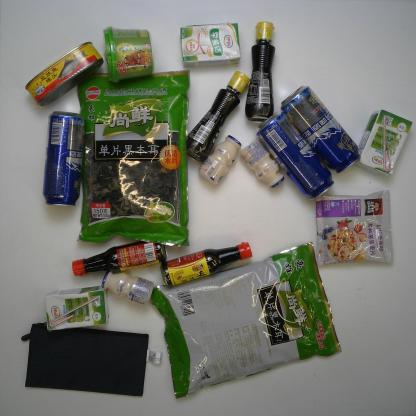Alcohol: (253, 105, 337, 201), (280, 80, 362, 174), (42, 108, 85, 209)
Canned Food: (22, 38, 102, 105)
Dried Food: (74, 64, 193, 247)
Instant Drink: (312, 187, 396, 268), (104, 25, 156, 85)
Milk: (354, 109, 413, 173), (42, 288, 110, 333), (180, 24, 243, 61), (200, 135, 244, 187), (242, 138, 285, 190), (98, 271, 156, 307)
Seasoner: (187, 70, 254, 164), (161, 239, 255, 286), (244, 20, 281, 122), (69, 240, 168, 275)
Stationery: (17, 321, 162, 400)
